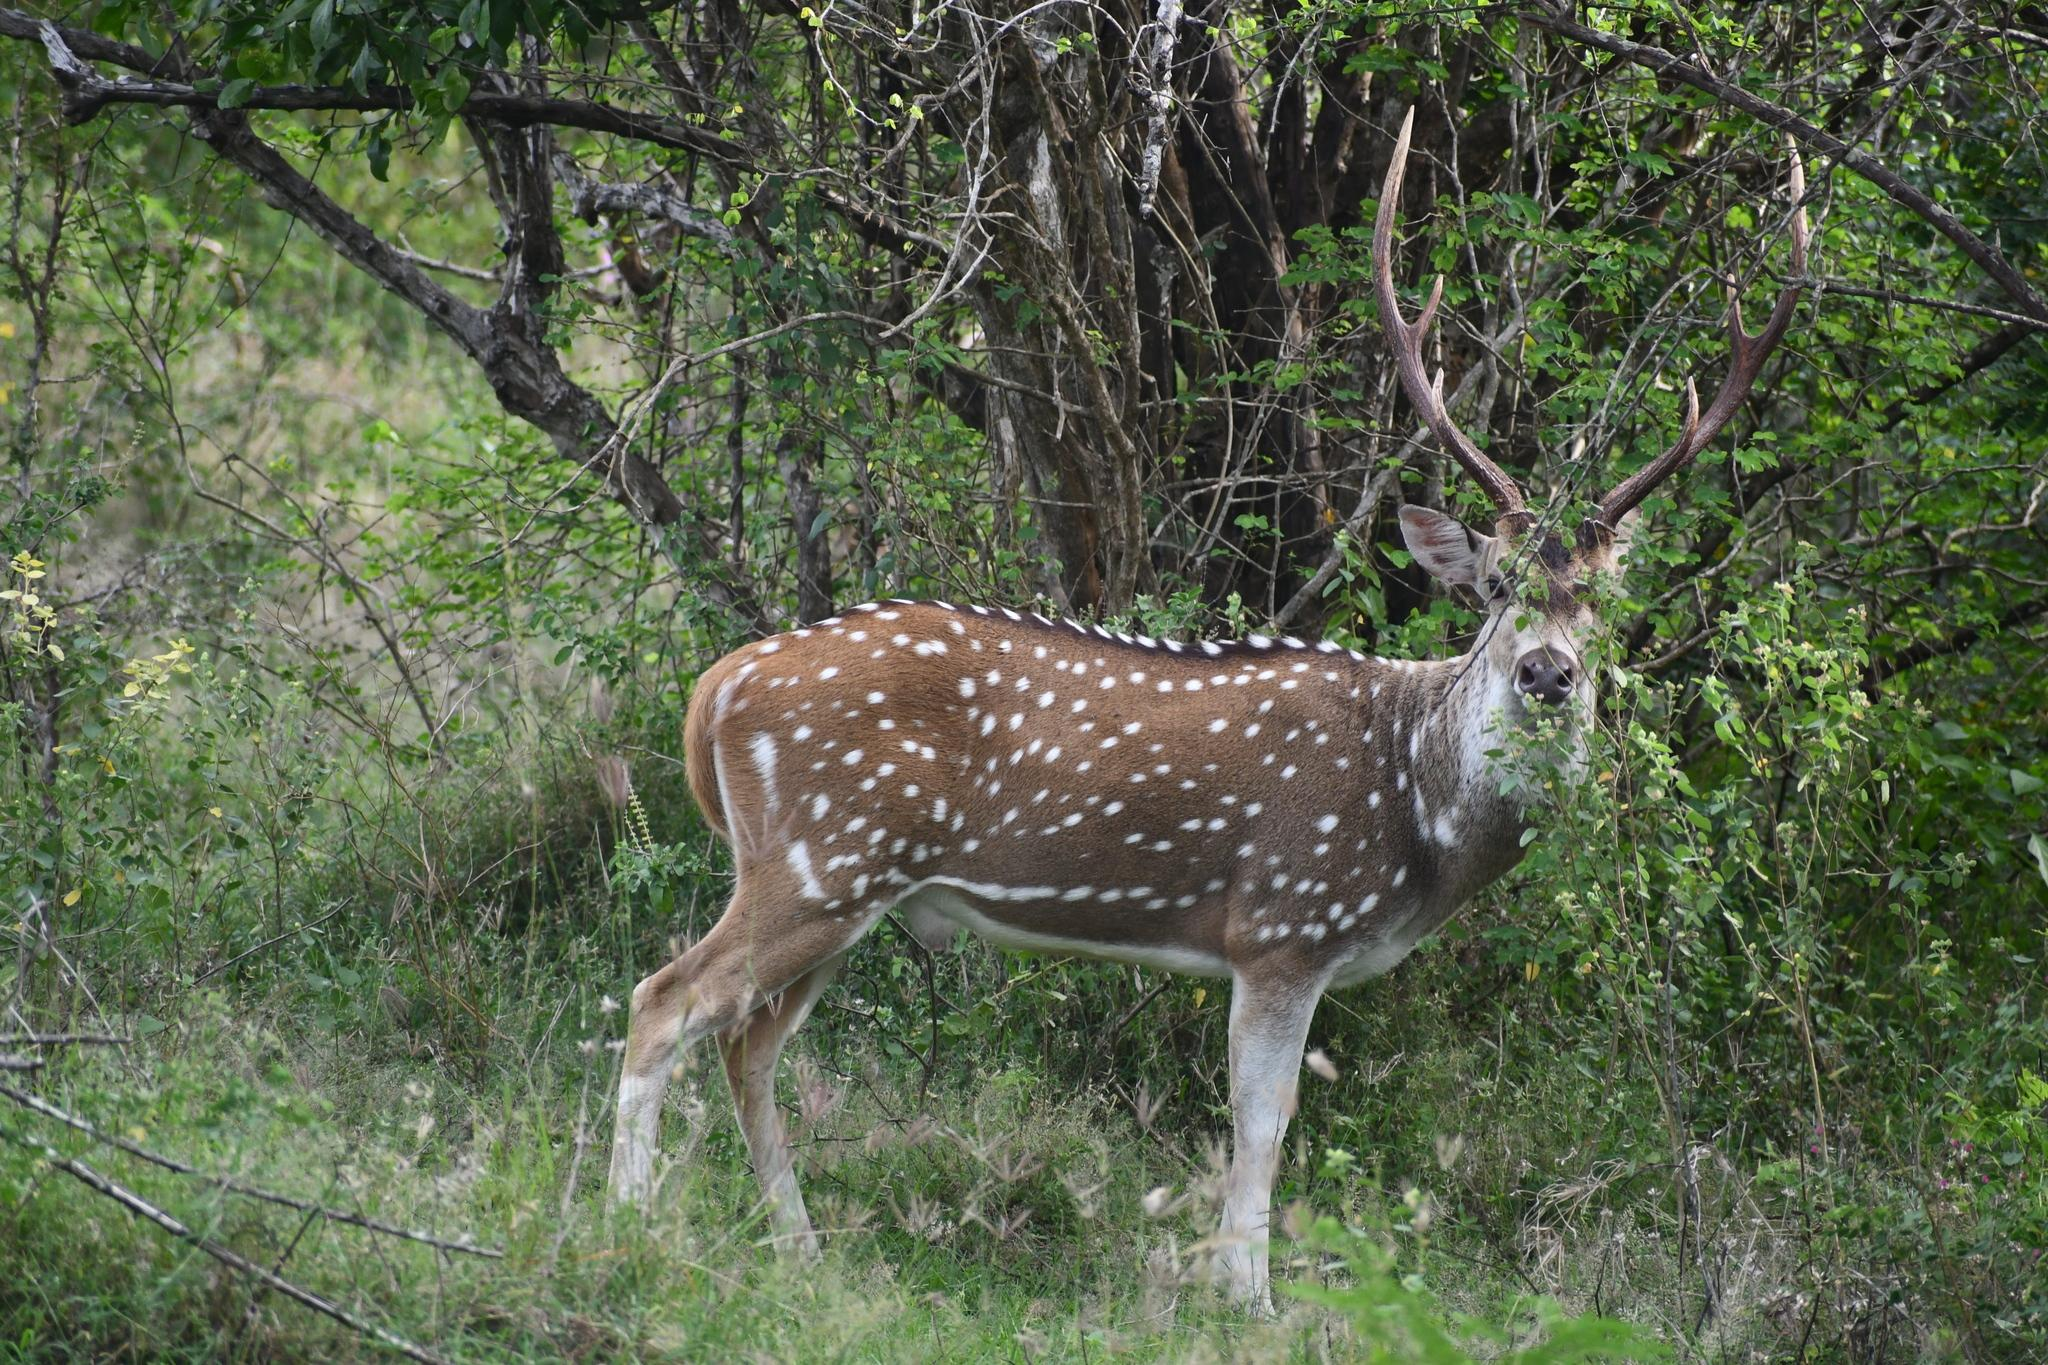Deer: (611, 602, 1594, 1310)
